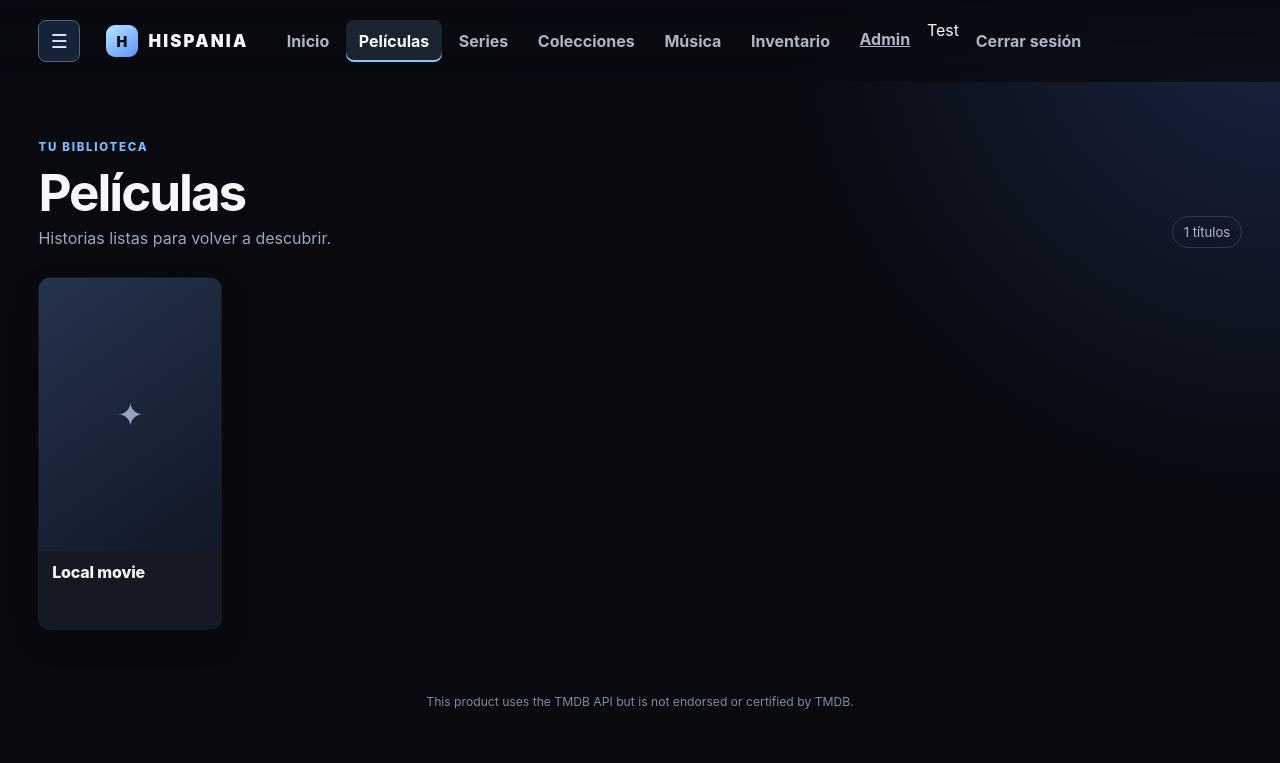
Scenario: App › renders provider metadata, cast and crew without the old TMDB admin panel
This screenshot has width=1280, height=763.
expect the navigation bar named "Navegación principal" is shown: met, box [274, 20, 1094, 62]
Click the button "✦ Local movie" at (130,454), box [38, 277, 222, 630]
(page scrolled)
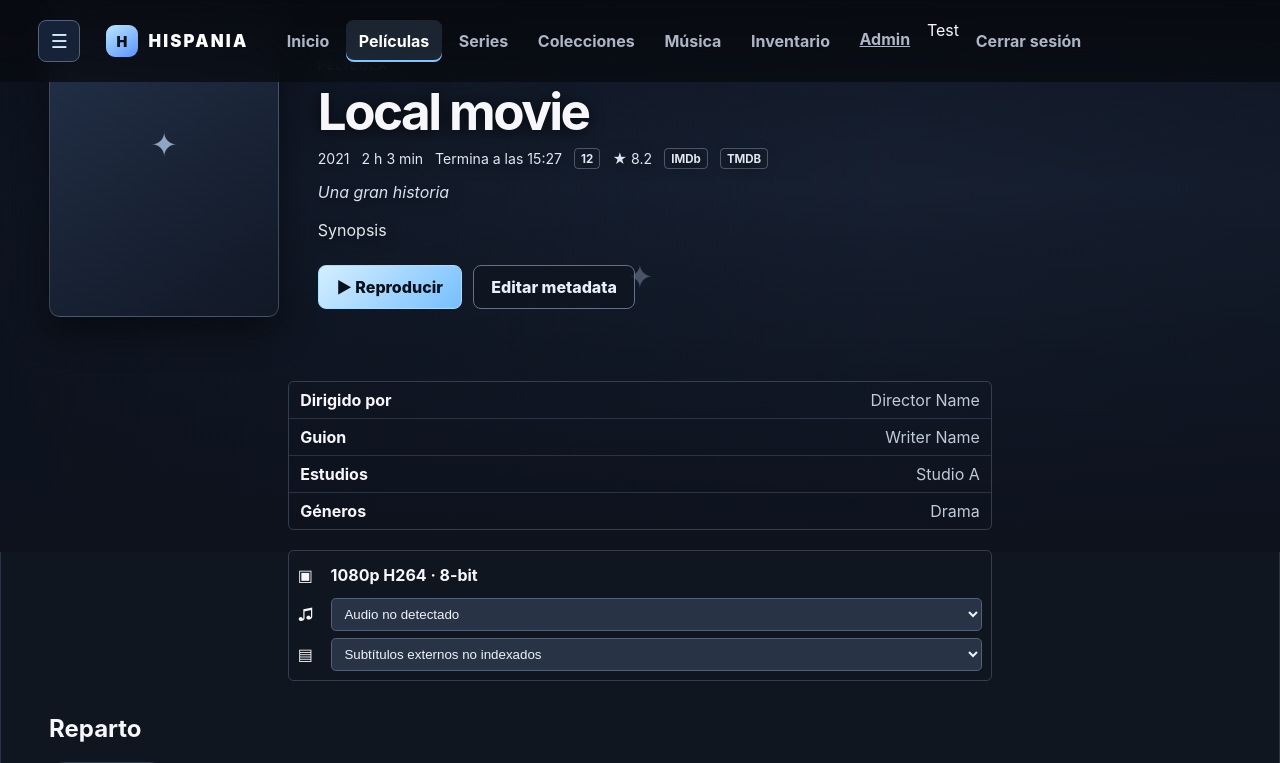
expect the text "2 h 3 min" is shown: met, box [362, 150, 423, 167]
expect the text "★ 8.2" is shown: met, box [612, 150, 652, 167]
expect the text "12" is shown: met, box [574, 148, 600, 169]
Click the button "Director Name" at (925,400), box [871, 390, 980, 410]
(page scrolled)
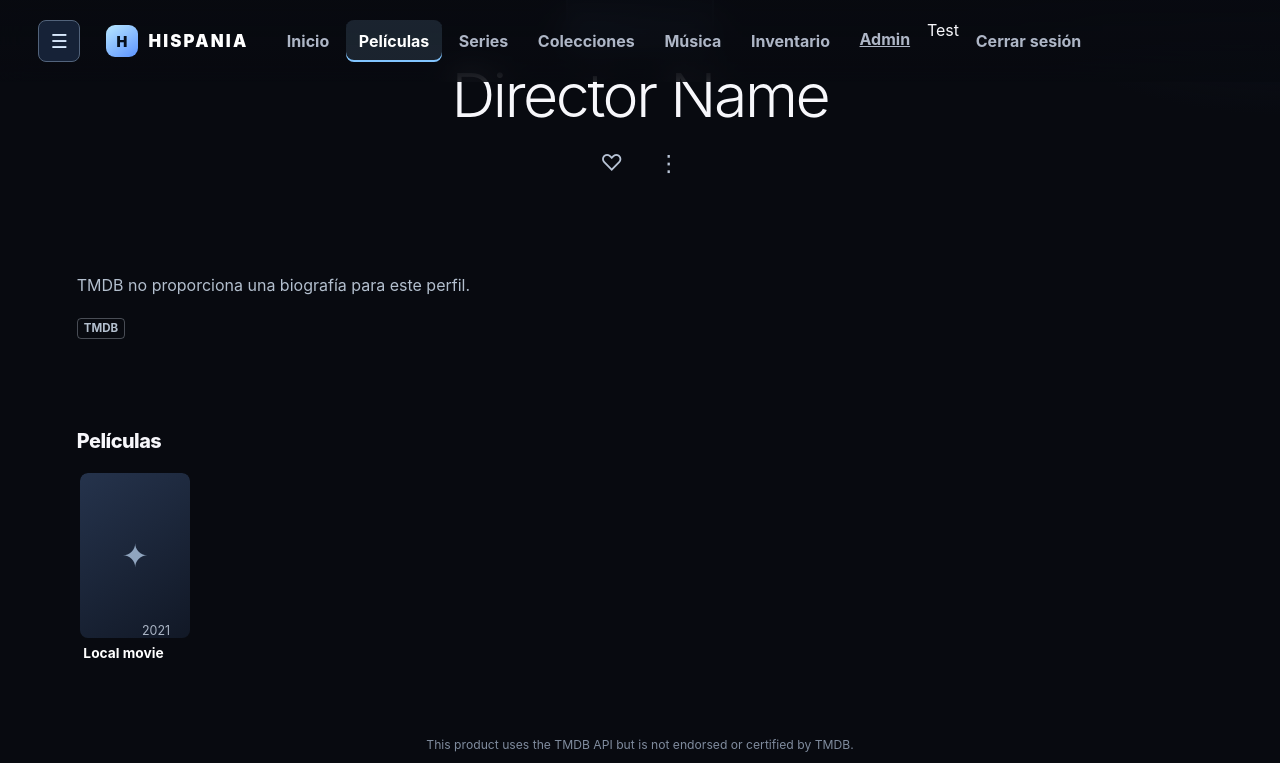
expect the heading "Director Name" is shown: met, box [452, 58, 828, 132]
expect the text "TMDB no proporciona una biografía para este perfil." is shown: met, box [77, 275, 470, 295]
expect the element named "Películas de Director Name" is shown: met, box [79, 472, 191, 663]
